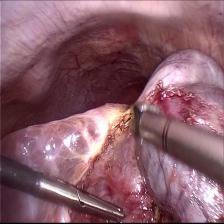Clipper: (121, 100, 165, 148)
Grasper: (42, 167, 125, 222)
